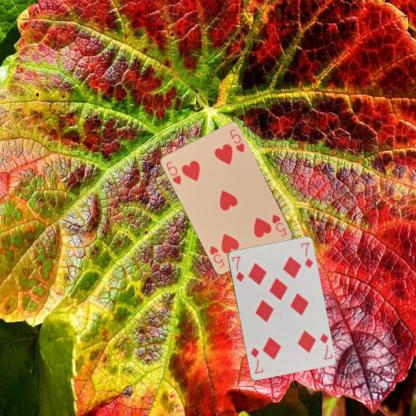5h: (164, 158, 182, 186), (270, 212, 288, 238)
7d: (229, 253, 245, 283), (318, 330, 334, 360)
